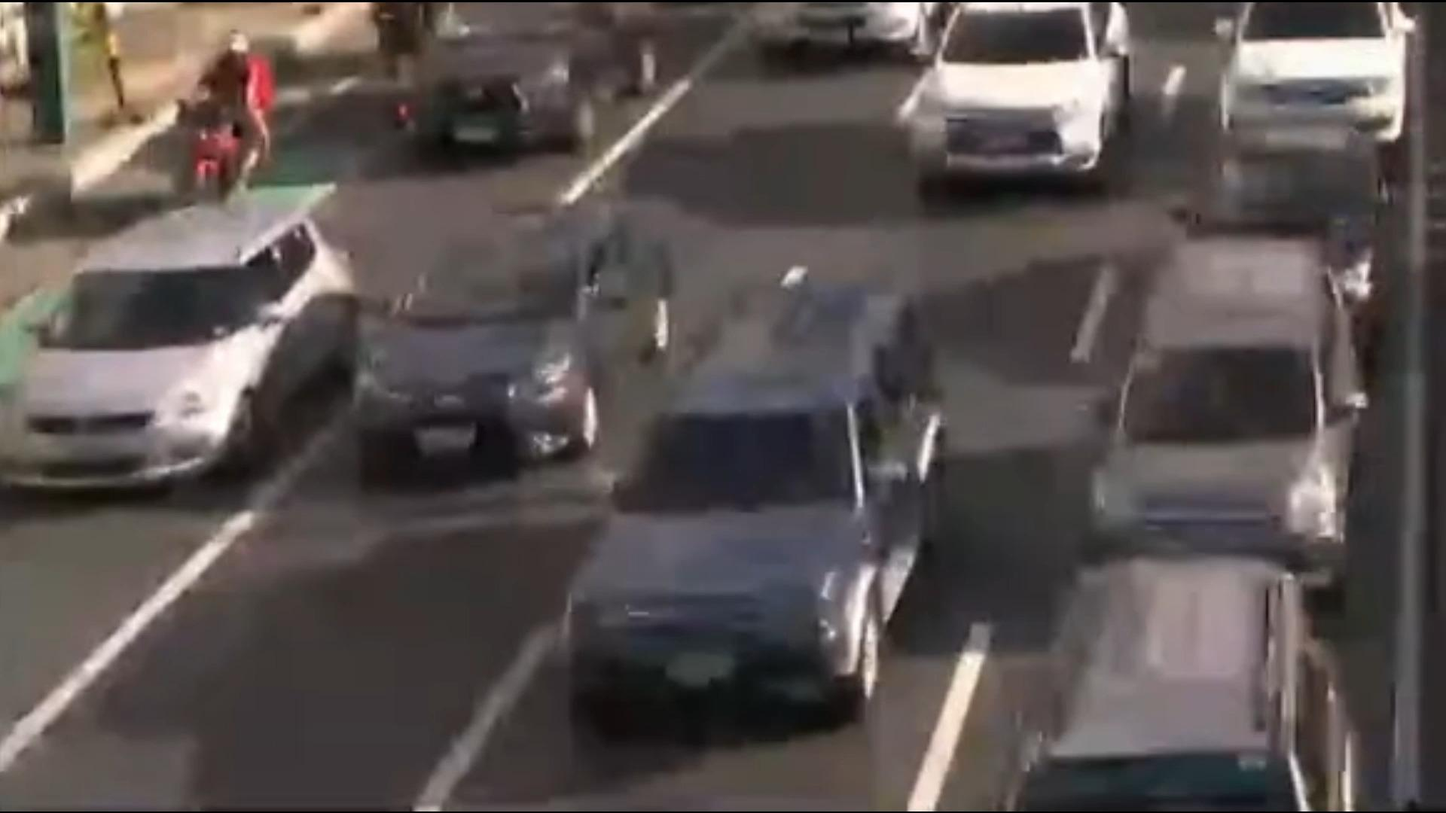Motorcycle: (164, 34, 282, 215)
SUV: (570, 279, 949, 730), (1086, 250, 1363, 582), (998, 576, 1356, 813), (894, 0, 1147, 203), (1211, 0, 1418, 169)
Sedan: (0, 211, 354, 502), (339, 203, 687, 487), (1150, 130, 1397, 343), (405, 0, 670, 152)
